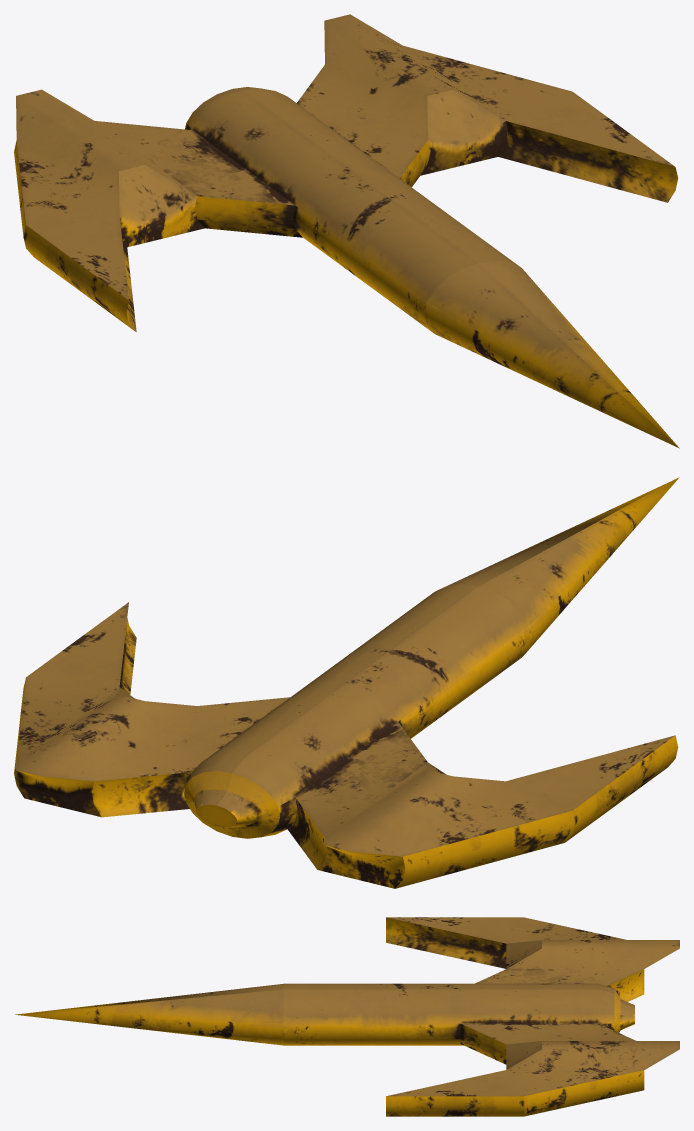
The model's file is boat2.fbx.
3 renders of one model, top to bottom at view 1: azimuth 30°, elevation 25°; view 2: azimuth 150°, elevation 25°; view 3: azimuth 270°, elevation 25°, orthographic. The views are drawn at different scales.
Visible parts, largest first — view 1: pCylinder1; view 2: pCylinder1; view 3: pCylinder1.
Part boxes in pixels (x1,y1,x2,y2): pCylinder1: (14, 14, 679, 448); pCylinder1: (14, 477, 679, 888); pCylinder1: (15, 917, 679, 1116).
Bounding box in the file's own units: 11.19 × 1.47 × 17.45.
1 material, 1 textured.
